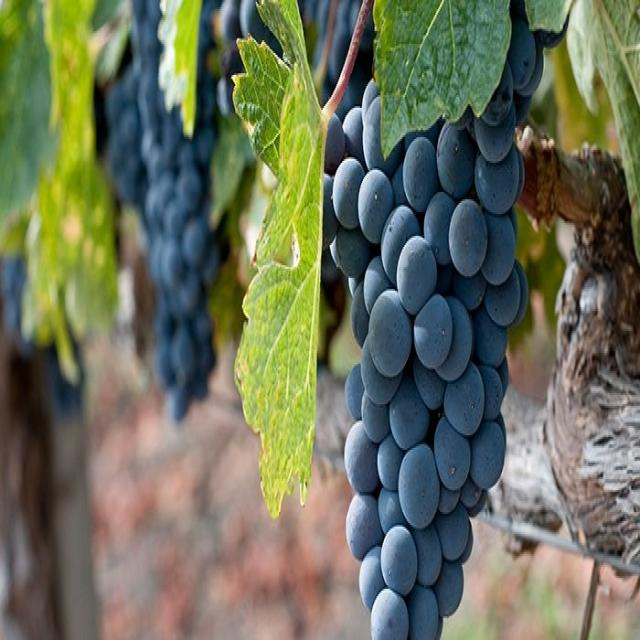grape: (321, 0, 542, 635), (104, 0, 219, 417)
